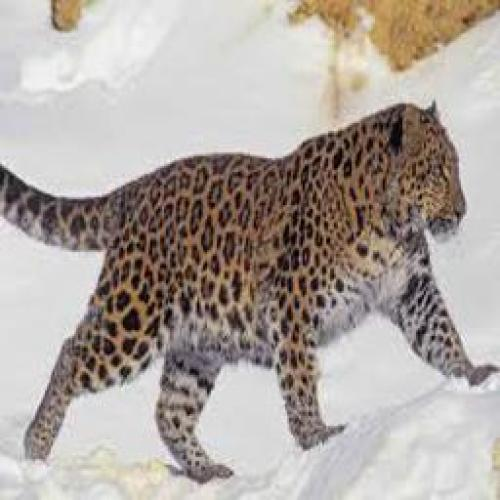amur_leopard-endangered: (88, 99, 470, 401)
